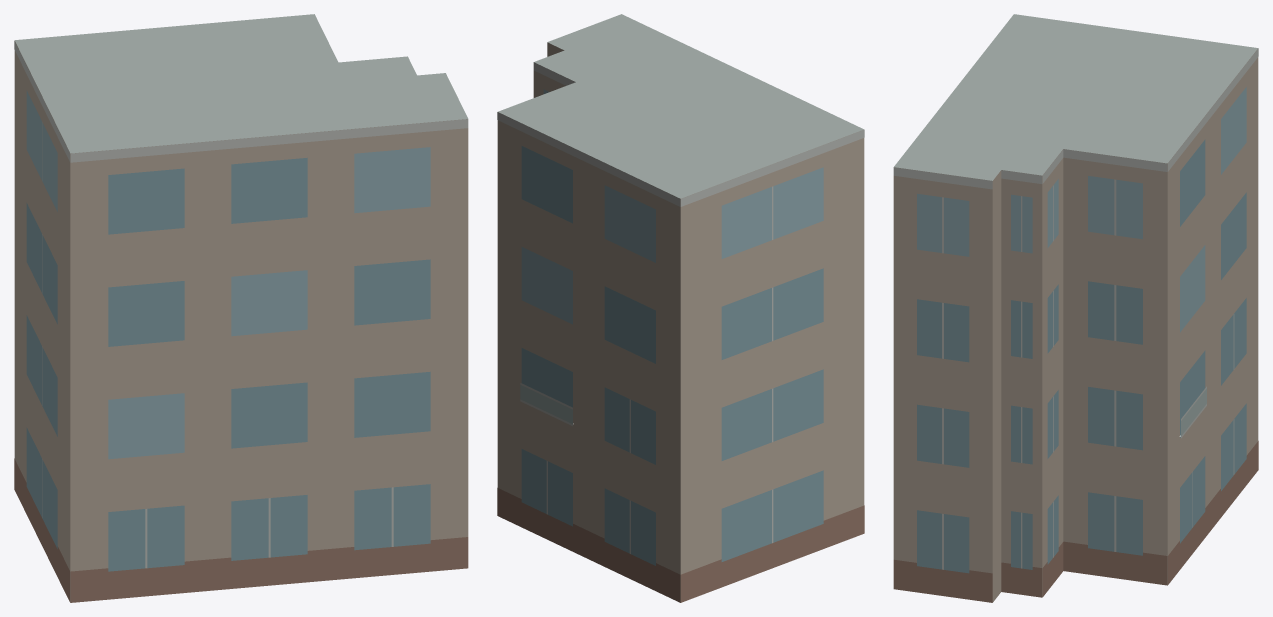
Rendered from survey-upis-32544866.glb.
3 renders of one model, left to right at view 1: azimuth 30°, elevation 25°; view 2: azimuth 150°, elevation 25°; view 3: azimuth 270°, elevation 25°, orthographic. The views are drawn at different scales.
Parts seen in each view (by area): view 1: survey-upis-32544866.tmp; view 2: survey-upis-32544866.tmp; view 3: survey-upis-32544866.tmp.
Part boxes in pixels (left/top/right/bottom): survey-upis-32544866.tmp: left=14, top=14, right=468, bottom=602; survey-upis-32544866.tmp: left=497, top=14, right=864, bottom=602; survey-upis-32544866.tmp: left=893, top=14, right=1258, bottom=602.
Size of the model in its own units: 10.1 by 11.9 by 9.33.
